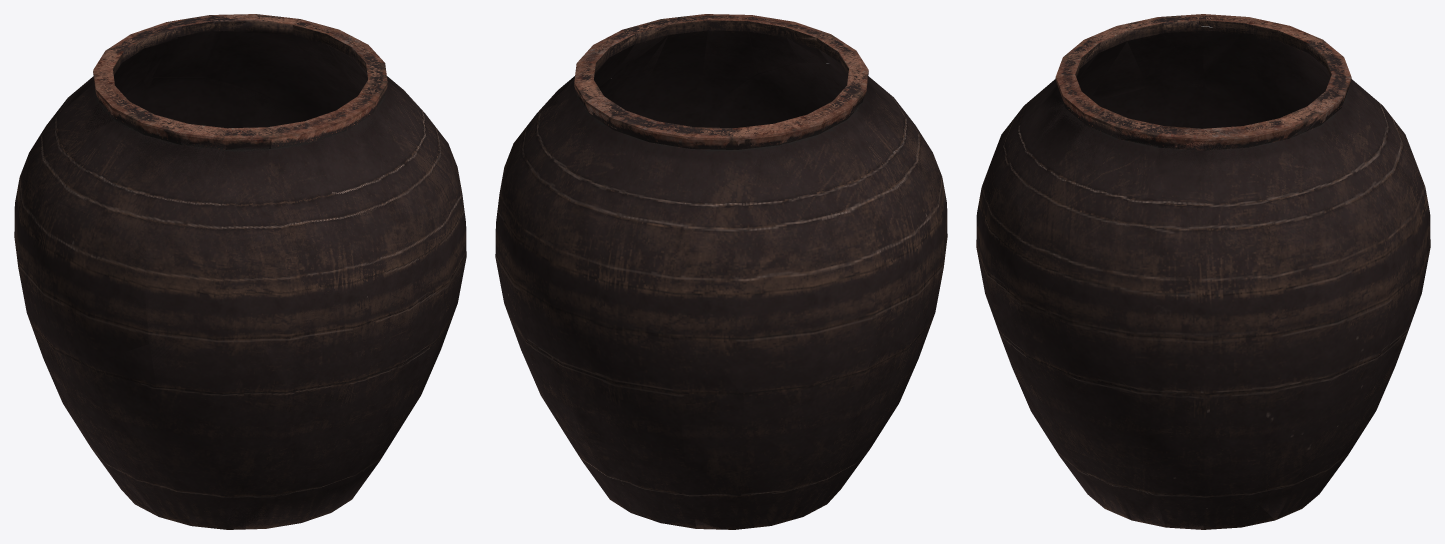
File: brokenJar2.fbx
The picture shows the model from 3 angles, left to right: view 1: azimuth 30°, elevation 25°; view 2: azimuth 150°, elevation 25°; view 3: azimuth 270°, elevation 25°; orthographic projection.
Parts seen in each view (by area): view 1: SM_Jar01b, SM_Jar01b_cell.015, SM_Jar01b_cell.006, SM_Jar01b_cell.005, SM_Jar01b_cell.022, SM_Jar01b_cell.009, SM_Jar01b_cell.021, SM_Jar01b_cell.016, SM_Jar01b_cell.003, SM_Jar01b_cell.012, SM_Jar01b_cell.010, SM_Jar01b_cell.023 (+5 smaller); view 2: SM_Jar01b, SM_Jar01b_cell.006, SM_Jar01b_cell.016, SM_Jar01b_cell.020, SM_Jar01b_cell.005, SM_Jar01b_cell.018, SM_Jar01b_cell.022, SM_Jar01b_cell.017, SM_Jar01b_cell.013, SM_Jar01b_cell.010, SM_Jar01b_cell.014, SM_Jar01b_cell.011; view 3: SM_Jar01b, SM_Jar01b_cell.004, SM_Jar01b_cell.016, SM_Jar01b_cell.023, SM_Jar01b_cell.018, SM_Jar01b_cell.008, SM_Jar01b_cell.011, SM_Jar01b_cell.005, SM_Jar01b_cell.022, SM_Jar01b_cell.001, SM_Jar01b_cell.014, SM_Jar01b_cell.007 (+3 smaller).
Boxes of the visible parts, x1,y1,x2,y2 form: SM_Jar01b: (14,14,466,529); SM_Jar01b_cell.015: (146,210,315,450); SM_Jar01b_cell.006: (16,202,148,373); SM_Jar01b_cell.005: (288,196,455,394); SM_Jar01b_cell.022: (58,112,269,234); SM_Jar01b_cell.009: (144,28,360,118); SM_Jar01b_cell.021: (214,424,382,529); SM_Jar01b_cell.016: (271,85,459,250); SM_Jar01b_cell.003: (230,252,363,430); SM_Jar01b_cell.012: (80,373,270,515); SM_Jar01b_cell.010: (125,77,310,128); SM_Jar01b_cell.023: (344,249,464,442); SM_Jar01b: (495,14,947,529); SM_Jar01b_cell.006: (832,160,947,344); SM_Jar01b_cell.016: (613,25,827,105); SM_Jar01b_cell.020: (679,362,794,529); SM_Jar01b_cell.005: (691,62,847,127); SM_Jar01b_cell.018: (747,110,888,328); SM_Jar01b_cell.022: (819,49,928,203); SM_Jar01b_cell.017: (579,409,629,478); SM_Jar01b_cell.013: (736,320,916,463); SM_Jar01b_cell.010: (544,202,692,369); SM_Jar01b_cell.014: (546,394,583,447); SM_Jar01b_cell.011: (539,32,649,121); SM_Jar01b: (977,14,1430,529); SM_Jar01b_cell.004: (1049,291,1302,444); SM_Jar01b_cell.016: (1017,59,1158,291); SM_Jar01b_cell.023: (999,293,1236,480); SM_Jar01b_cell.018: (1200,26,1330,120); SM_Jar01b_cell.008: (1051,191,1294,311); SM_Jar01b_cell.011: (1150,91,1329,218); SM_Jar01b_cell.005: (976,149,1040,330); SM_Jar01b_cell.022: (1076,28,1203,99); SM_Jar01b_cell.001: (1130,445,1260,529); SM_Jar01b_cell.014: (1251,384,1385,520); SM_Jar01b_cell.007: (1085,477,1145,523).
Bounding box in the file's own units: 76.2 × 75.18 × 76.2.
